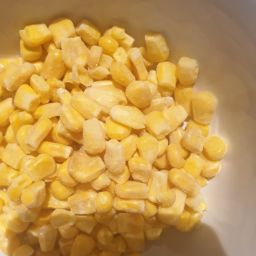Corn Kernel: (4, 27, 226, 223), (72, 8, 209, 256), (113, 21, 232, 256), (31, 15, 127, 256), (2, 20, 70, 256), (82, 72, 184, 184)
